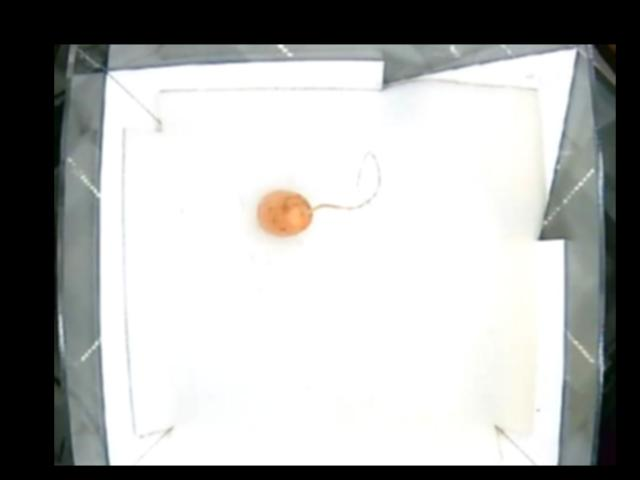Carrot: (256, 185, 316, 235)
